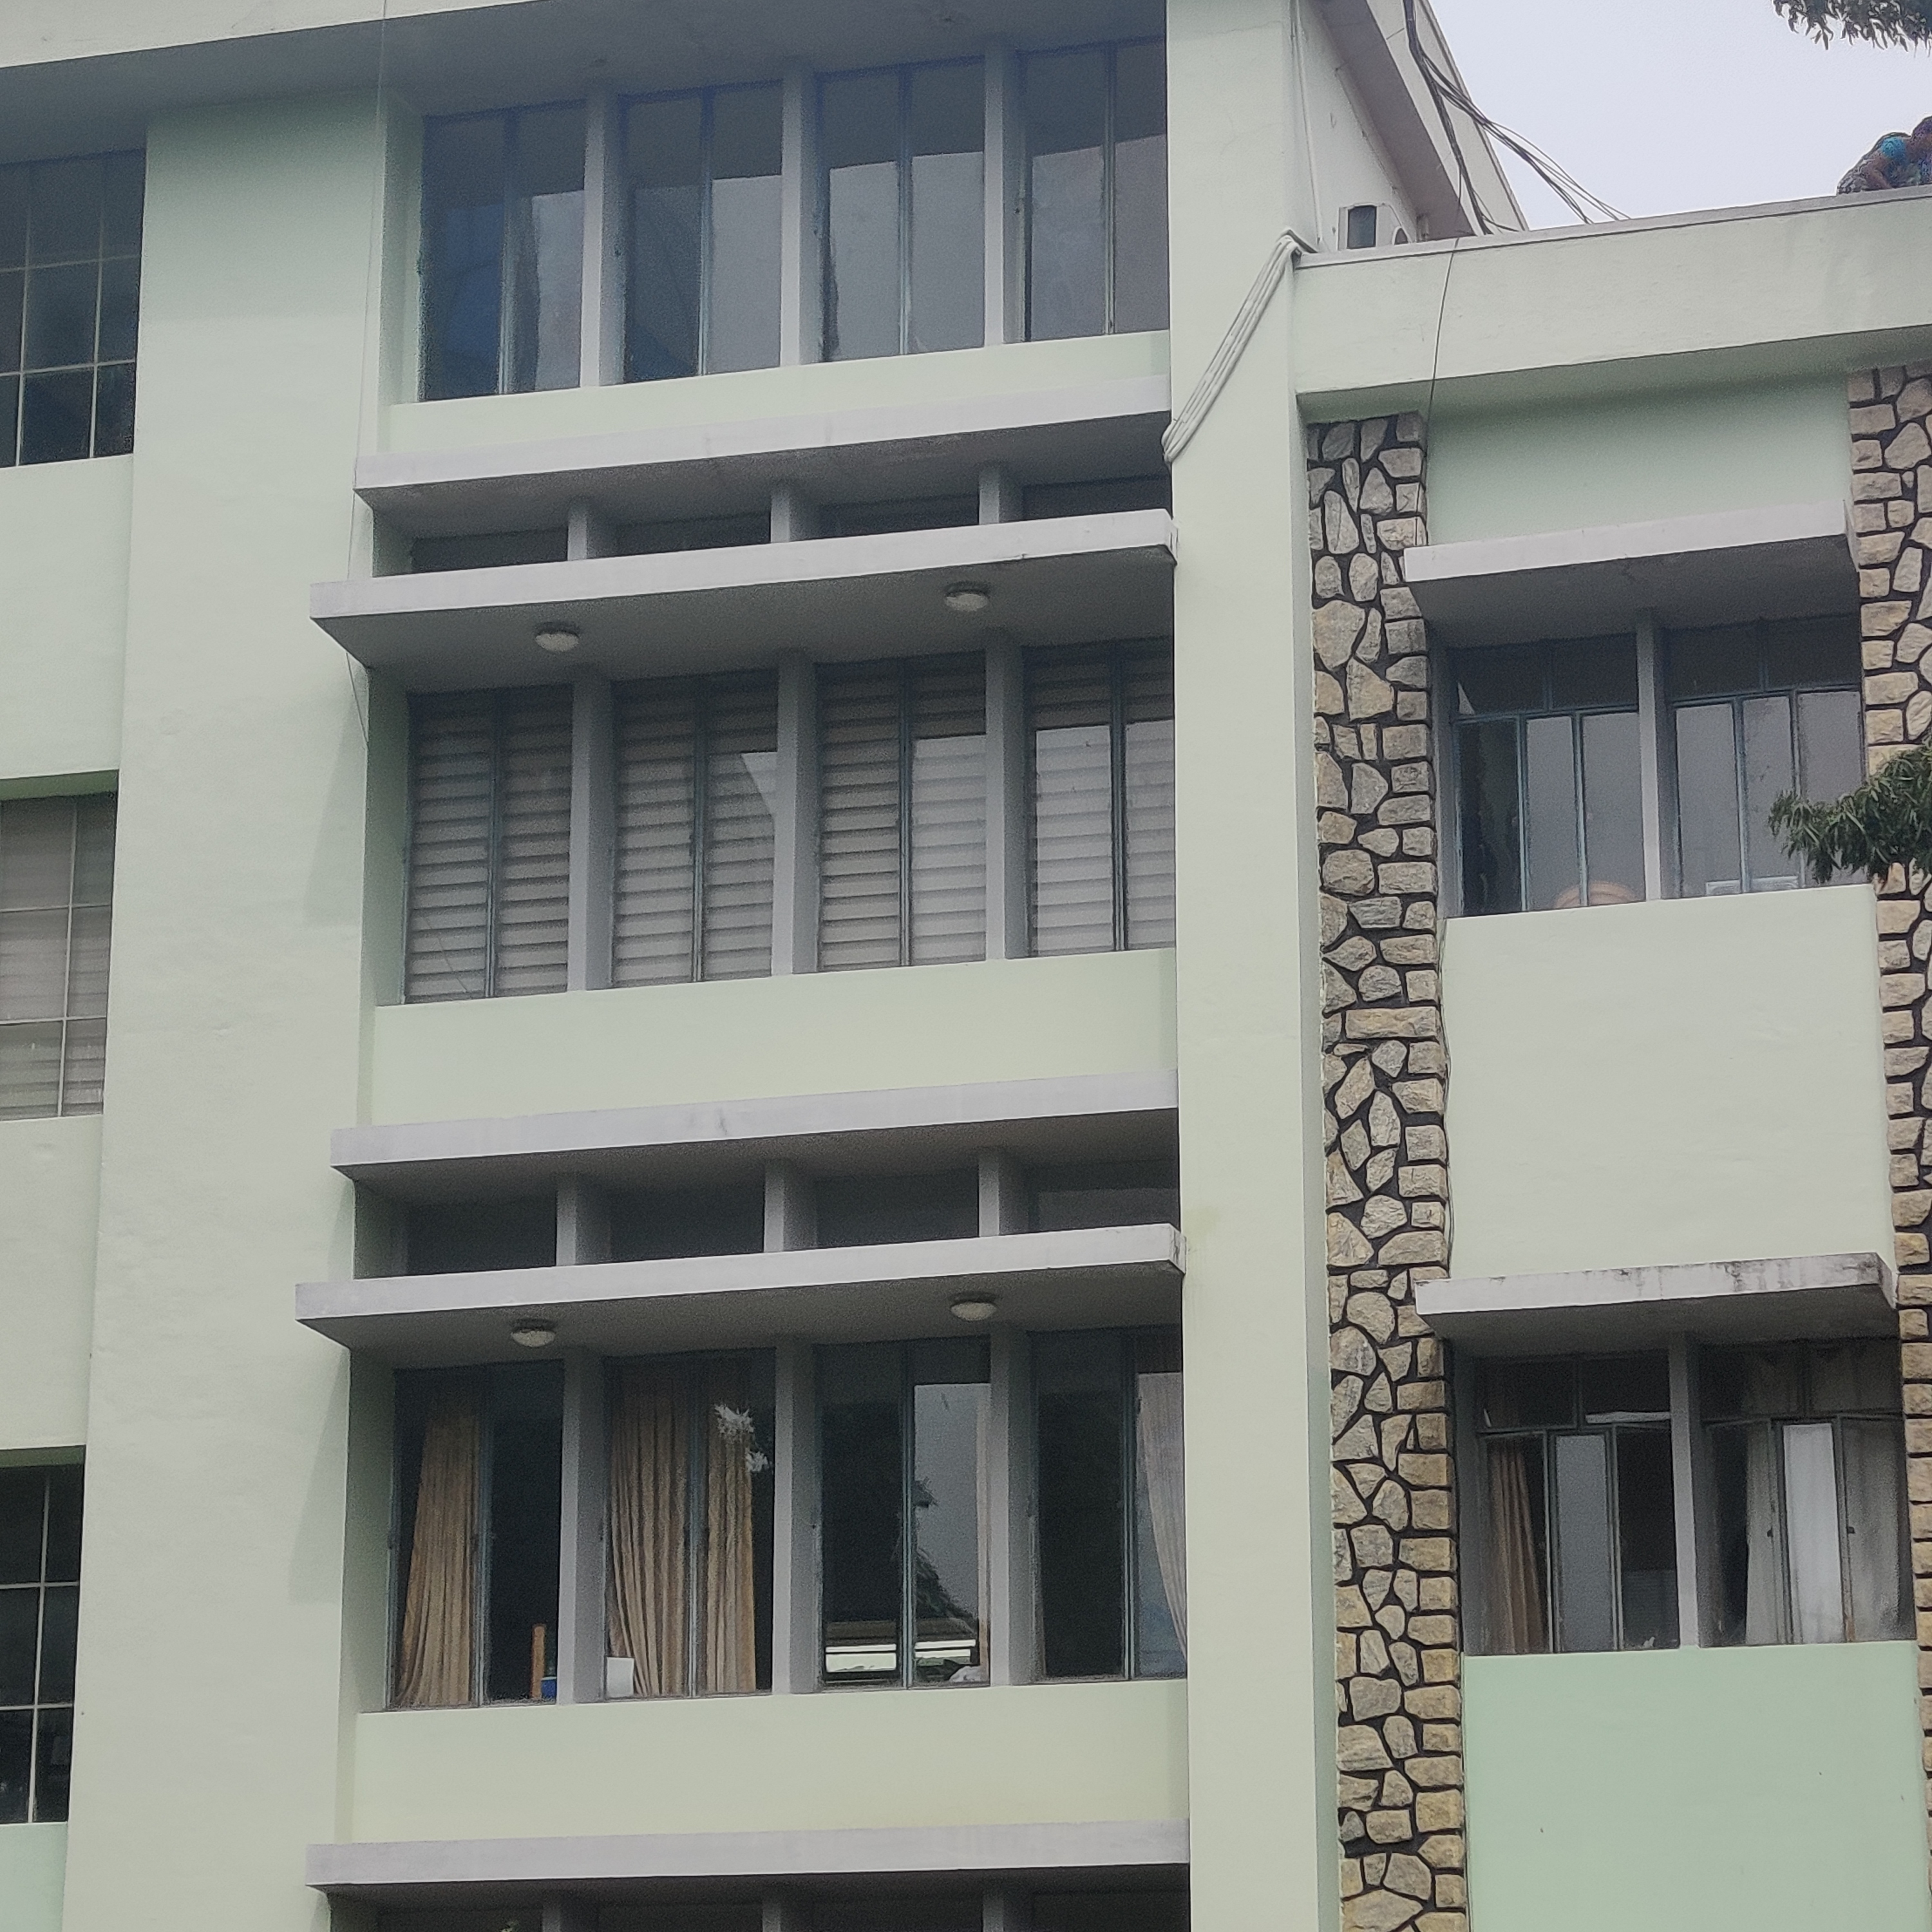Block 1: (0, 0, 1923, 1925)
